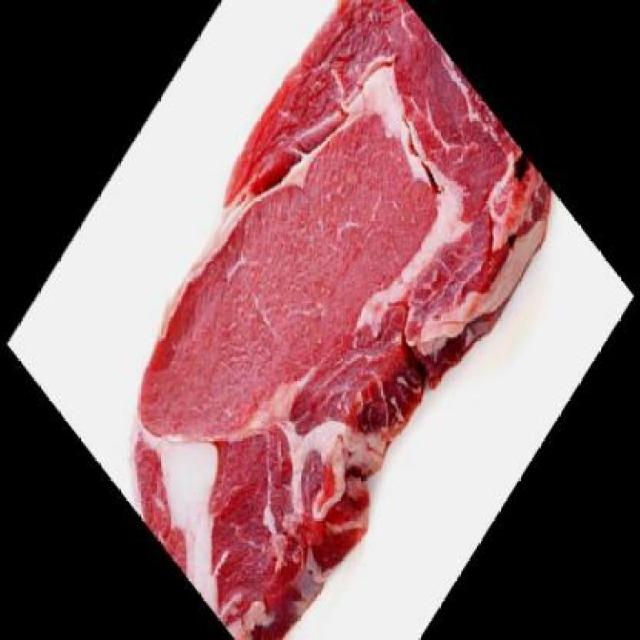beef: (65, 0, 569, 638)
